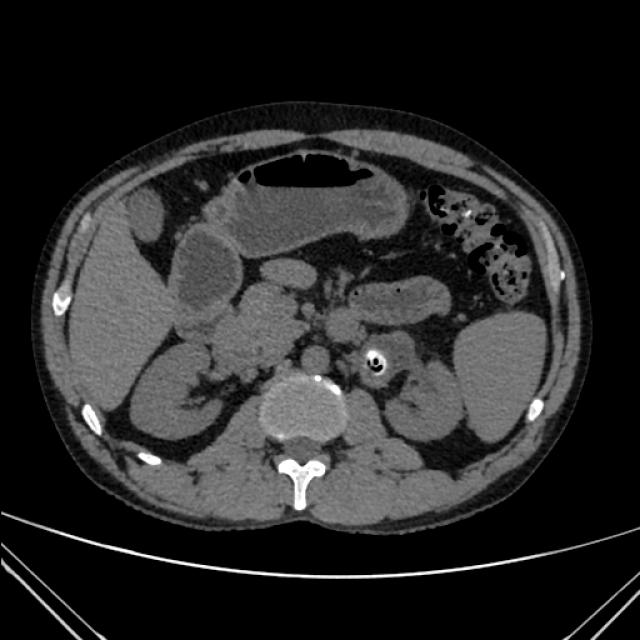kidneystone: (366, 350, 386, 375)
